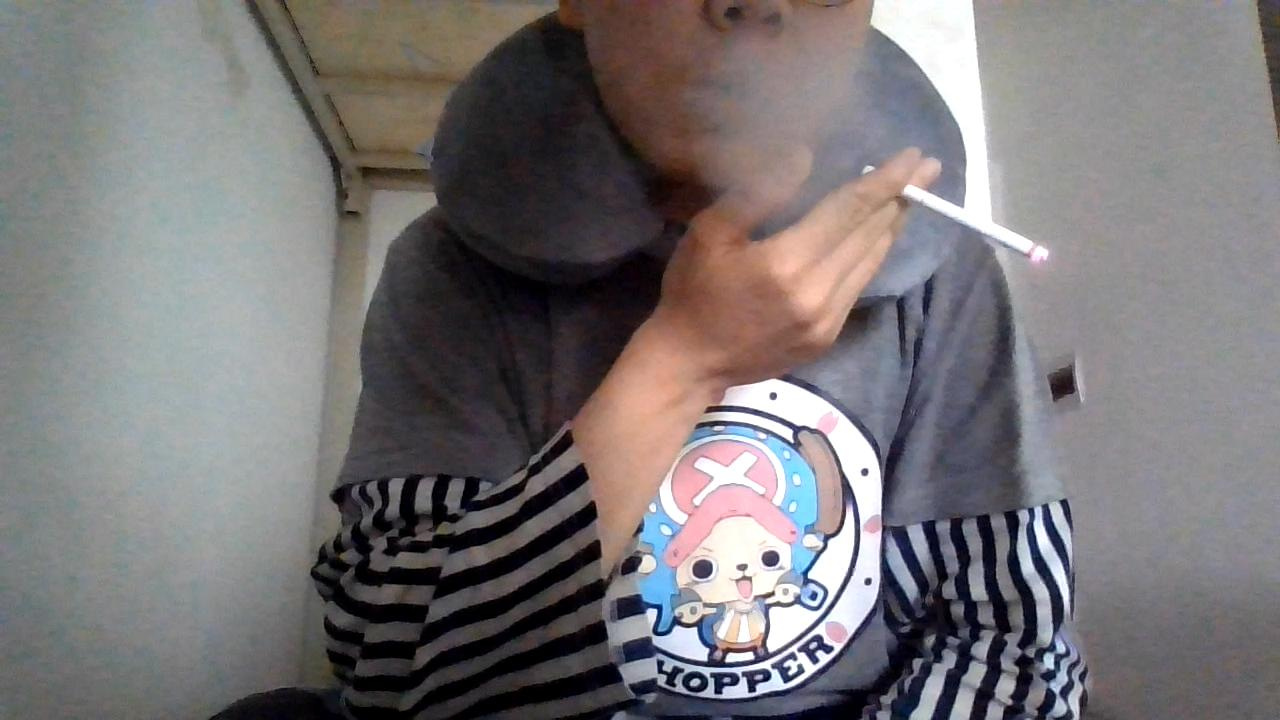yanwu: (705, 43, 928, 236)
